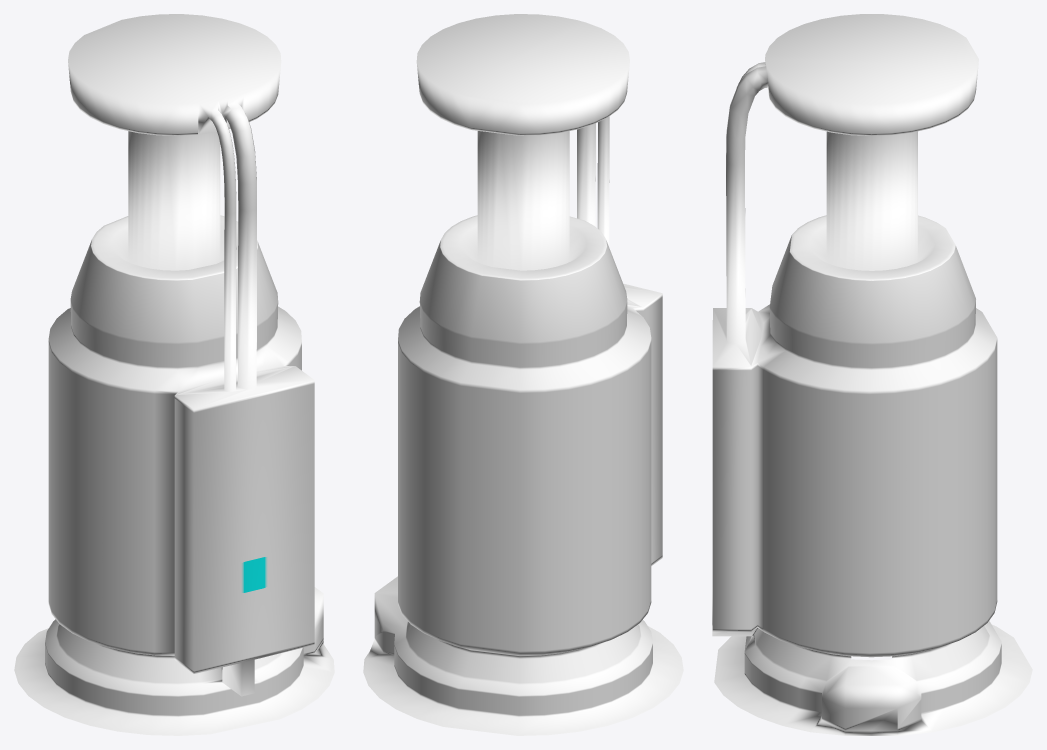
Rendered from scifi_gen.fbx.
3 renders of one model, left to right at view 1: azimuth 30°, elevation 25°; view 2: azimuth 150°, elevation 25°; view 3: azimuth 270°, elevation 25°, orthographic.
Visible parts, largest first — view 1: Cylinder.001; view 2: Cylinder.001; view 3: Cylinder.001.
Boxes of the visible parts, box(x1,y1,x2,y2) form: Cylinder.001: box(14, 14, 334, 735); Cylinder.001: box(363, 14, 683, 735); Cylinder.001: box(712, 14, 1032, 735).
Bounding box in the file's own units: 575 × 1219 × 580.
Materials: 1 (1 with a texture image).
